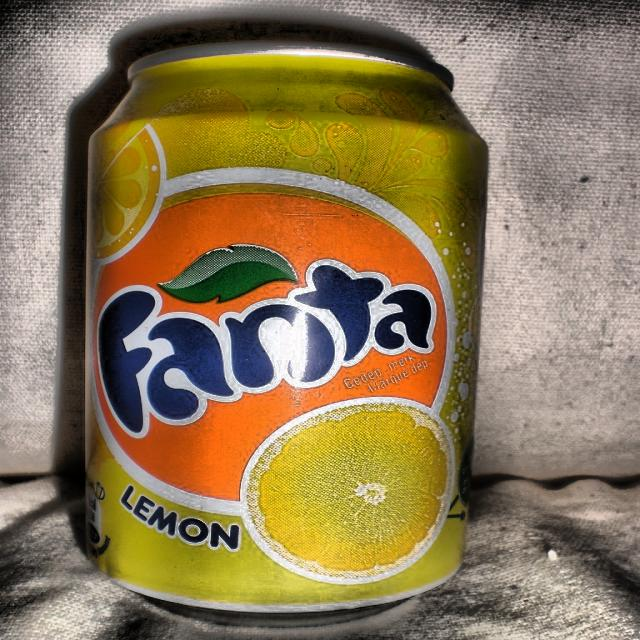Cans: (61, 38, 491, 632)
